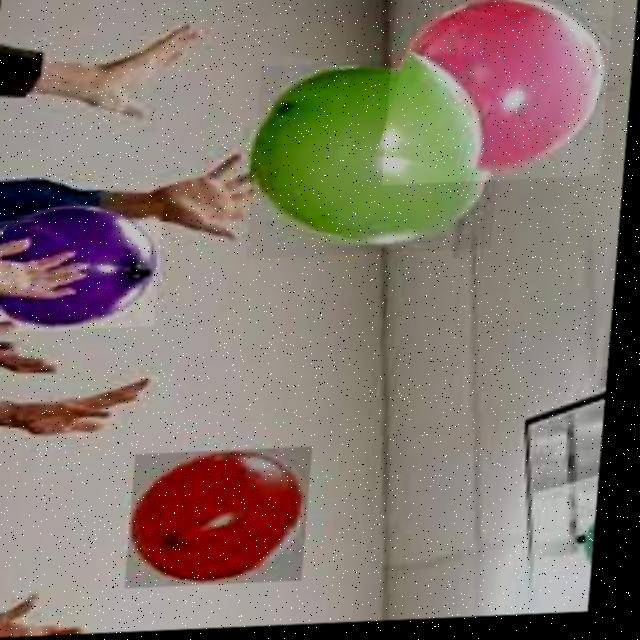balloon: (250, 60, 507, 262), (383, 0, 614, 189), (134, 450, 319, 590), (0, 205, 166, 334)
